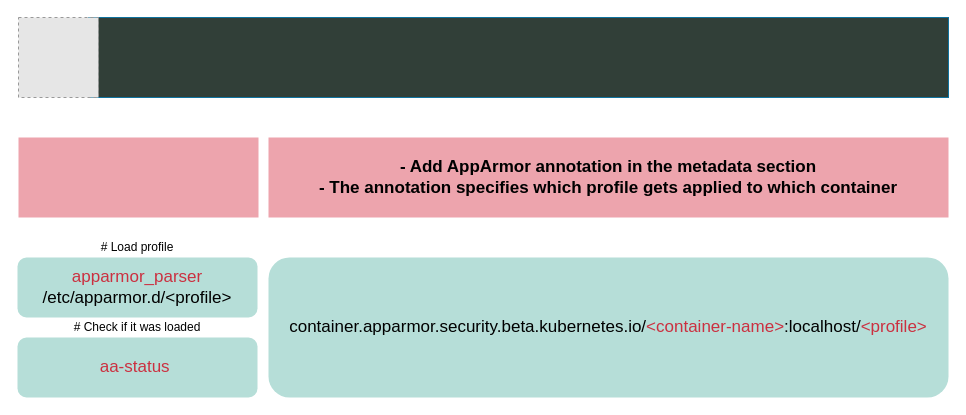
Image size: 966x415. Some labels were removed from this diagram. Grey dashed boxes stand in for pictures. Each missing label, with the box of its shape:
AppArmor Kubernetes Integration: (88, 16, 948, 98)
Create AppArmor Profile on the node that the pod will be scheduled on: (18, 137, 258, 217)
